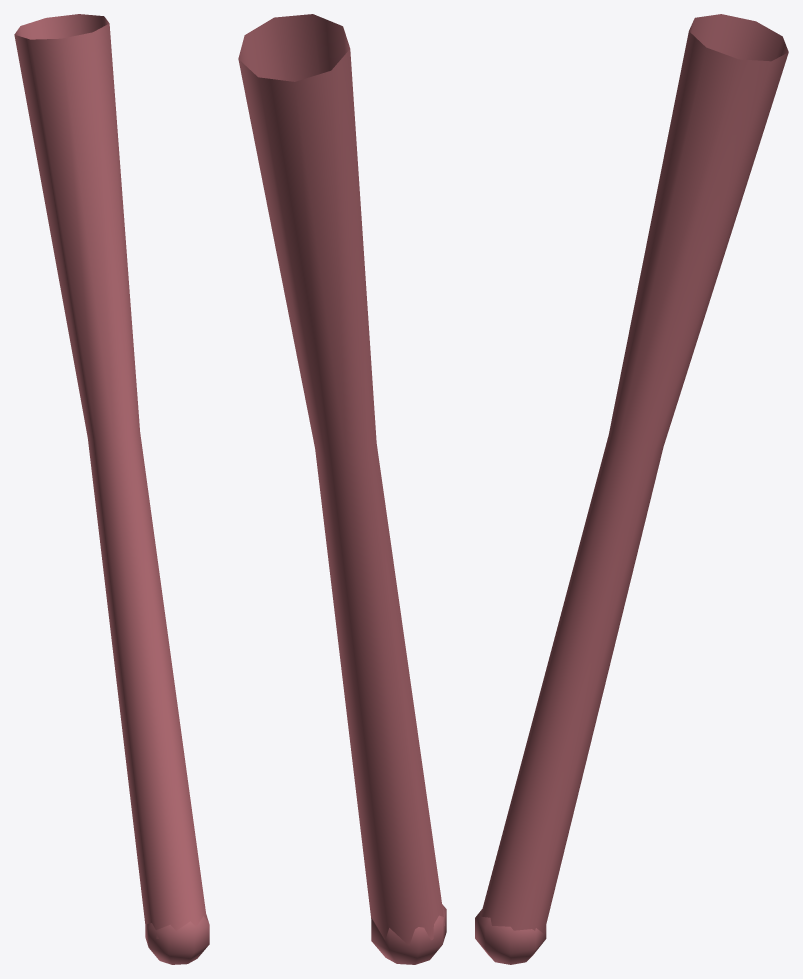
The model's file is Flamingo_Body_Limb1U.fbx.
The picture shows the model from 3 angles, left to right: view 1: azimuth 30°, elevation 25°; view 2: azimuth 150°, elevation 25°; view 3: azimuth 270°, elevation 25°; orthographic projection. The views are drawn at different scales.
Parts seen in each view (by area): view 1: Flamingo_Body_Limb1U; view 2: Flamingo_Body_Limb1U; view 3: Flamingo_Body_Limb1U.
Part boxes in pixels (<box>): Flamingo_Body_Limb1U: <box>14,14,209,964</box>; Flamingo_Body_Limb1U: <box>238,14,446,964</box>; Flamingo_Body_Limb1U: <box>475,14,788,964</box>.
Size of the model in its own units: 0.931 by 9.45 by 2.89.
